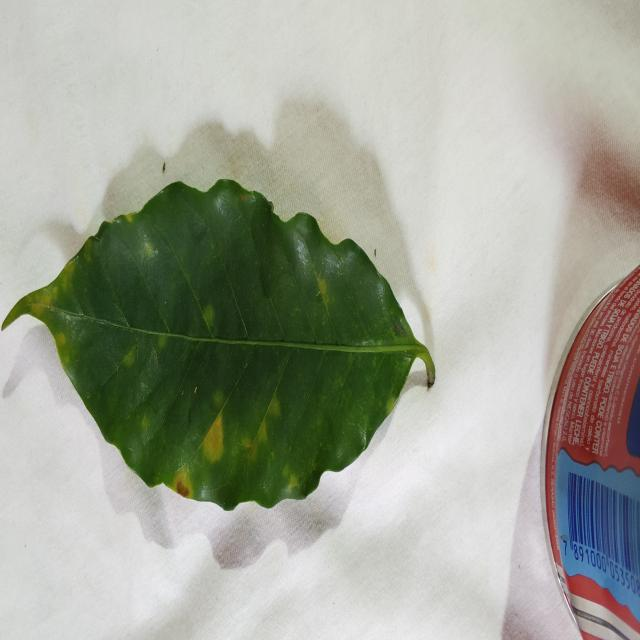Enfermedad-Roya: (0, 181, 436, 513)
